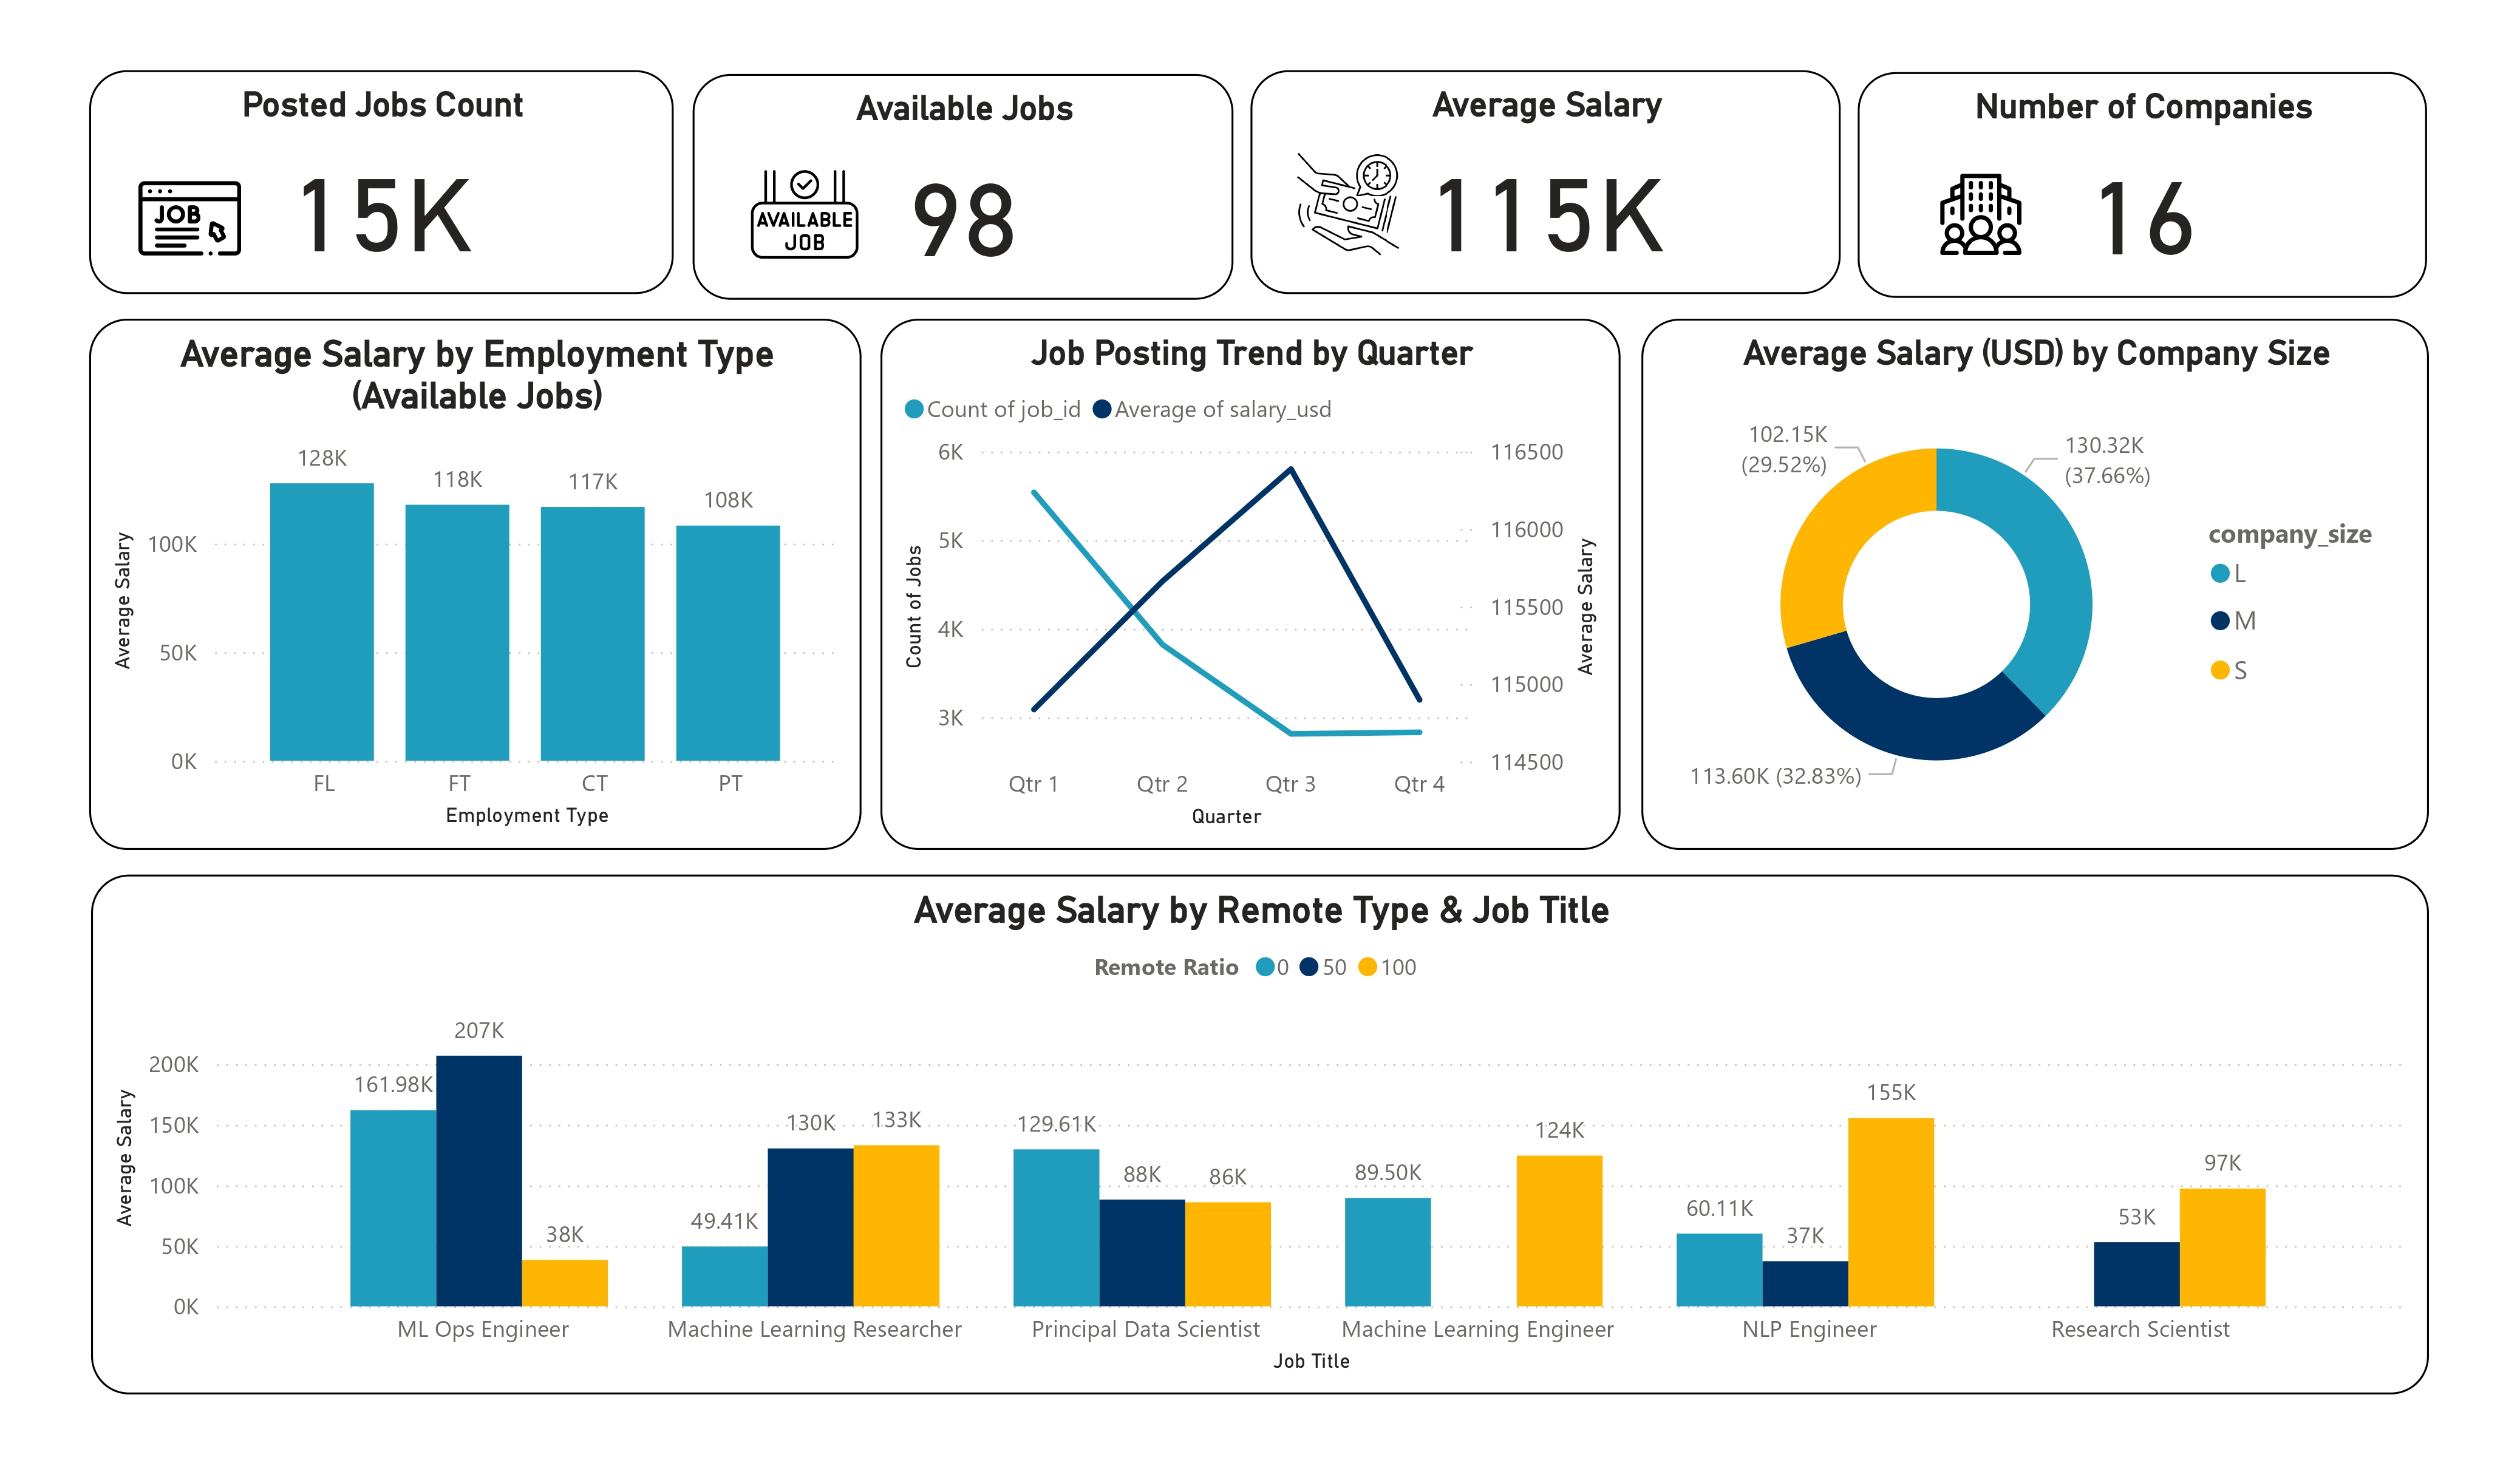

What the dashboard file says about the page in this screenshot:
{"tool":"powerbi","page":{"name":"Page 1","canvas":[1280,720],"ordinal":0},"visuals":[{"type":"columnChart","title":"Average Salary by Employment Type (Available Jobs)","fields":{"Category":["ai_job_dataset_processed.employment_type"],"Y":["Avg(ai_job_dataset_processed.salary_usd)"]},"box":[22.5,143.8,407.5,280],"z":0},{"type":"clusteredColumnChart","title":"Average Salary by Remote Type & Job Title","fields":{"Y":["Avg(ai_job_dataset_processed.salary_usd)"],"Category":["ai_job_dataset_processed.job_title"],"Series":["ai_job_dataset_processed.remote_ratio"]},"box":[24.3,437.1,1231.4,274.3],"z":1000},{"type":"donutChart","title":"Average Salary (USD) by Company Size","fields":{"Category":["ai_job_dataset_processed.company_size"],"Y":["Avg(ai_job_dataset_processed.salary_usd)"]},"box":[841.4,144.3,414.3,280],"z":2000},{"type":"card","title":"Average Salary","fields":{"Values":["Avg(ai_job_dataset_processed.salary_usd)"]},"box":[635,12.5,311.2,118.8],"z":3000},{"type":"card","title":"Number of Companies","fields":{"Values":["Count(ai_job_dataset_processed.company_name)"]},"box":[955,13.8,300,118.8],"z":4000},{"type":"card","title":"Posted Jobs Count","fields":{"Values":["Count(ai_job_dataset_processed.job_id)"]},"box":[22.5,12.5,308.8,118.8],"z":5000},{"type":"card","title":"Available Jobs","fields":{"Values":["CountNonNull(ai_job_dataset_processed.job_id)"]},"box":[341.2,15,285,118.8],"z":6000},{"type":"lineChart","title":"Job Posting Trend by Quarter","fields":{"Category":["ai_job_dataset_processed.posting_date.Variation.Date Hierarchy.Quarter"],"Y":["CountNonNull(ai_job_dataset_processed.job_id)"],"Y2":["Avg(ai_job_dataset_processed.salary_usd)"]},"box":[440,143.8,390,280],"z":7000},{"type":"image","box":[652.5,47.5,67.5,71.2],"z":7003},{"type":"image","box":[991.2,58.8,57.5,60],"z":7004},{"type":"image","box":[360,53.8,80,70],"z":7005},{"type":"image","box":[43.8,56.2,63.8,70],"z":7006}]}

Visuals, with their boxes in screenshot pixels (x1, y1, x2, y2):
"Average Salary by Employment Type (Available Jobs)" columnChart: {"x1": 88, "y1": 322, "x2": 851, "y2": 846}
"Average Salary by Remote Type & Job Title" clusteredColumnChart: {"x1": 92, "y1": 871, "x2": 2397, "y2": 1384}
"Average Salary (USD) by Company Size" donutChart: {"x1": 1622, "y1": 322, "x2": 2397, "y2": 847}
"Average Salary" card: {"x1": 1235, "y1": 76, "x2": 1818, "y2": 298}
"Number of Companies" card: {"x1": 1834, "y1": 78, "x2": 2396, "y2": 301}
"Posted Jobs Count" card: {"x1": 88, "y1": 76, "x2": 666, "y2": 298}
"Available Jobs" card: {"x1": 685, "y1": 81, "x2": 1219, "y2": 303}
"Job Posting Trend by Quarter" lineChart: {"x1": 870, "y1": 322, "x2": 1600, "y2": 846}
image: {"x1": 1268, "y1": 141, "x2": 1394, "y2": 275}
image: {"x1": 1902, "y1": 163, "x2": 2010, "y2": 275}
image: {"x1": 720, "y1": 153, "x2": 870, "y2": 284}
image: {"x1": 128, "y1": 158, "x2": 247, "y2": 289}
